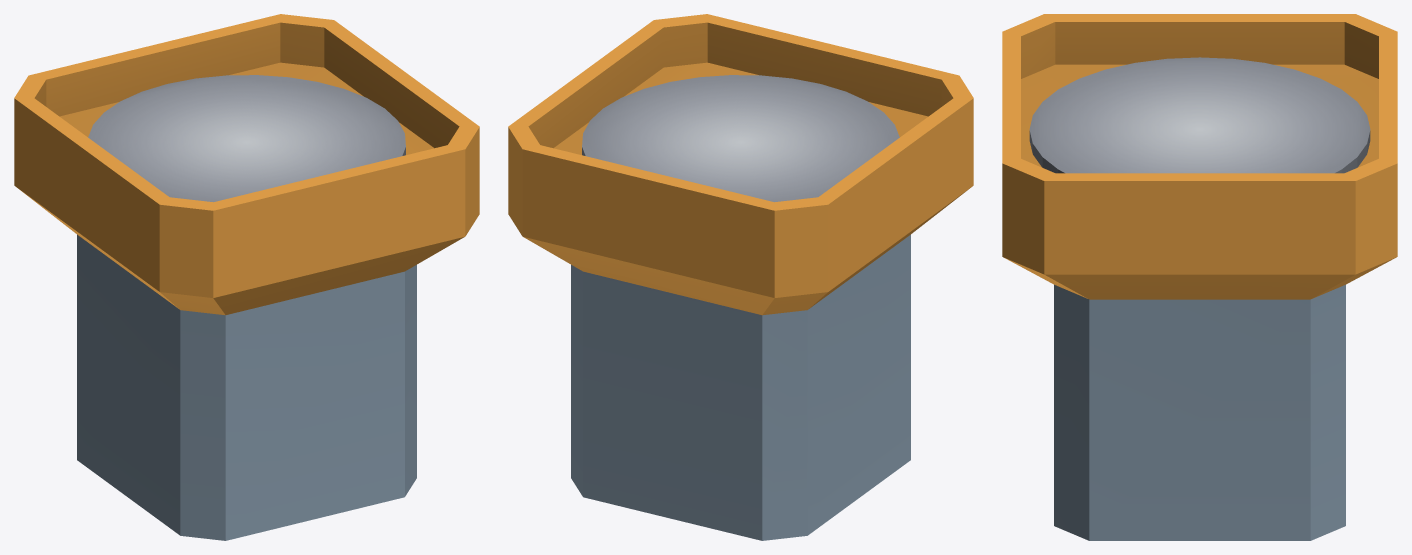
3 renders of one model, left to right at view 1: azimuth 30°, elevation 25°; view 2: azimuth 150°, elevation 25°; view 3: azimuth 270°, elevation 25°, orthographic. The views are drawn at different scales.
Parts seen in each view (by area): view 1: Part_Base, Part_Orange, Part_Disk; view 2: Part_Base, Part_Orange, Part_Disk; view 3: Part_Orange, Part_Base, Part_Disk.
Part boxes in pixels (bbox=[...]): Part_Base: bbox=[77, 234, 416, 540]; Part_Orange: bbox=[14, 14, 479, 315]; Part_Disk: bbox=[88, 75, 405, 202]; Part_Base: bbox=[571, 234, 910, 540]; Part_Orange: bbox=[508, 14, 973, 315]; Part_Disk: bbox=[582, 75, 899, 202]; Part_Orange: bbox=[1002, 14, 1397, 299]; Part_Base: bbox=[1054, 284, 1345, 540]; Part_Disk: bbox=[1029, 57, 1370, 173].
Size of the model in its own units: 0.92 by 0.98 by 0.92.
3 materials, 1 textured.
